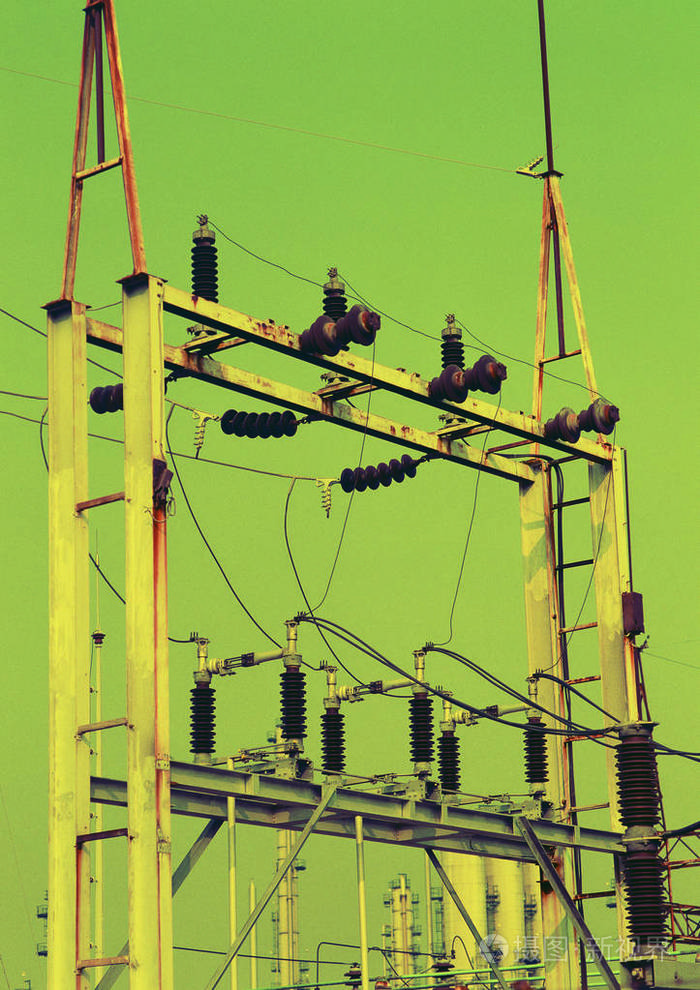insulator: (339, 453, 419, 493), (217, 408, 297, 441), (190, 244, 221, 301), (87, 383, 123, 413), (436, 342, 471, 369), (321, 291, 350, 317)
